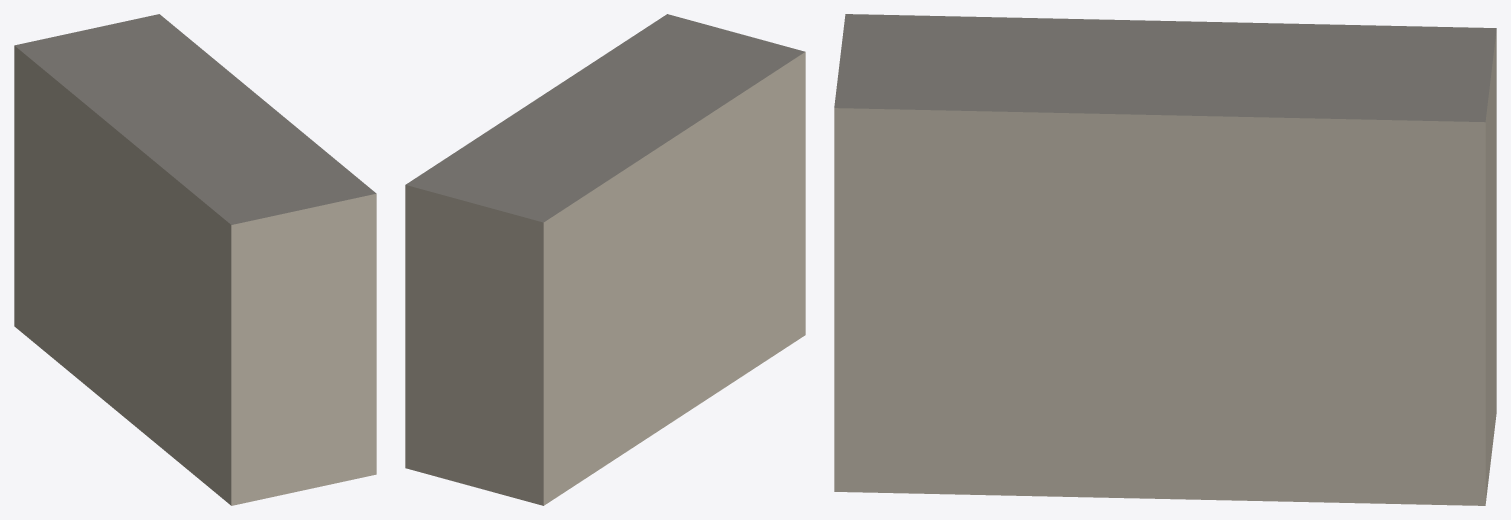
3 views of the same model, side by side, from view 1: azimuth 30°, elevation 25°; view 2: azimuth 150°, elevation 25°; view 3: azimuth 270°, elevation 25° (orthographic). The views are drawn at different scales.
Visible parts, largest first — view 1: HP-w505664432; view 2: HP-w505664432; view 3: HP-w505664432.
Boxes of the visible parts, x1=… form: HP-w505664432: x1=14, y1=14, x2=376, y2=505; HP-w505664432: x1=405, y1=14, x2=805, y2=505; HP-w505664432: x1=834, y1=14, x2=1496, y2=505.
Size of the model in its own units: 10.88 by 18 by 28.16.
